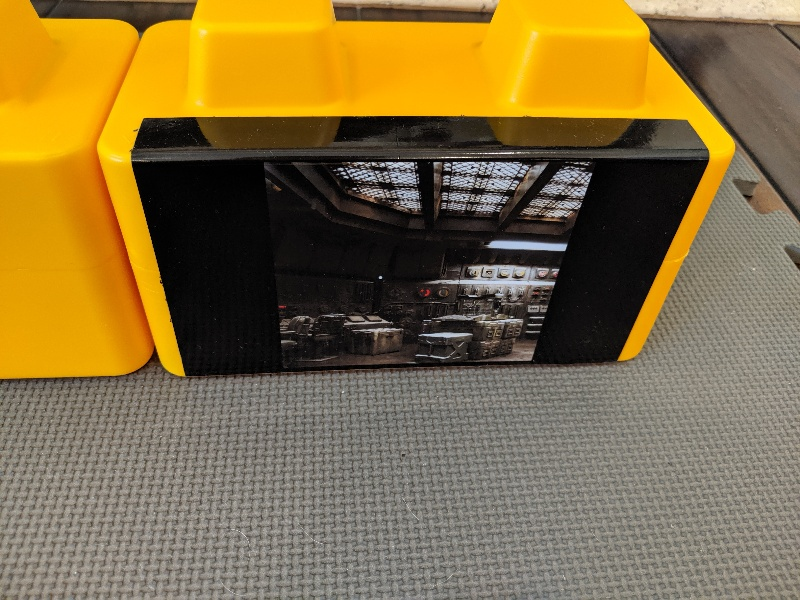Skystone: (121, 97, 723, 402)
